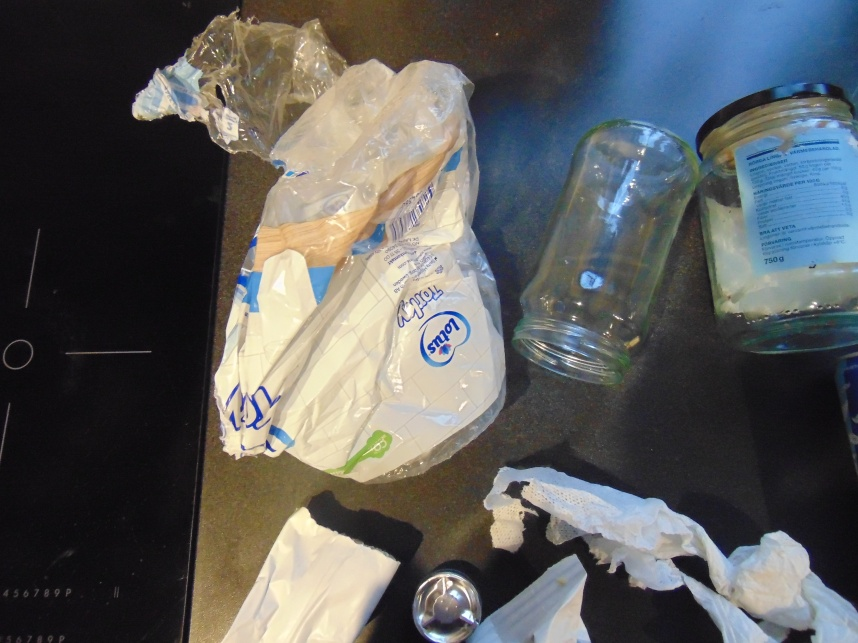glass_bottle: (512, 120, 702, 384), (698, 84, 858, 355)
metal: (412, 569, 483, 643)
